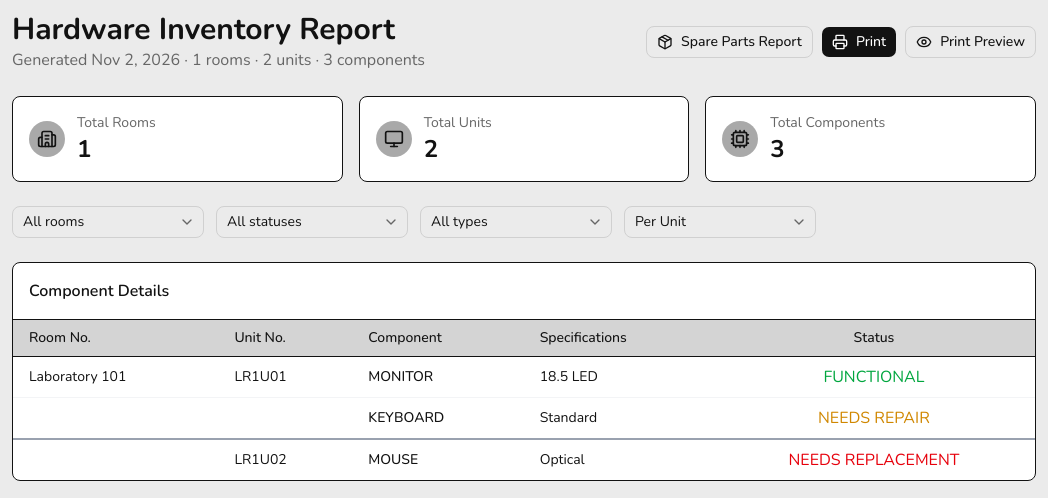
Test: HardwareReport › renders non-detailed view with deduplicated Room No. and Unit No. columns
The image size is (1048, 498).
What coordinates should you click on to do the following:
click the dropdown named "report detail level"
I would click on:
 (720, 222)
Its box is [624,206,816,238].
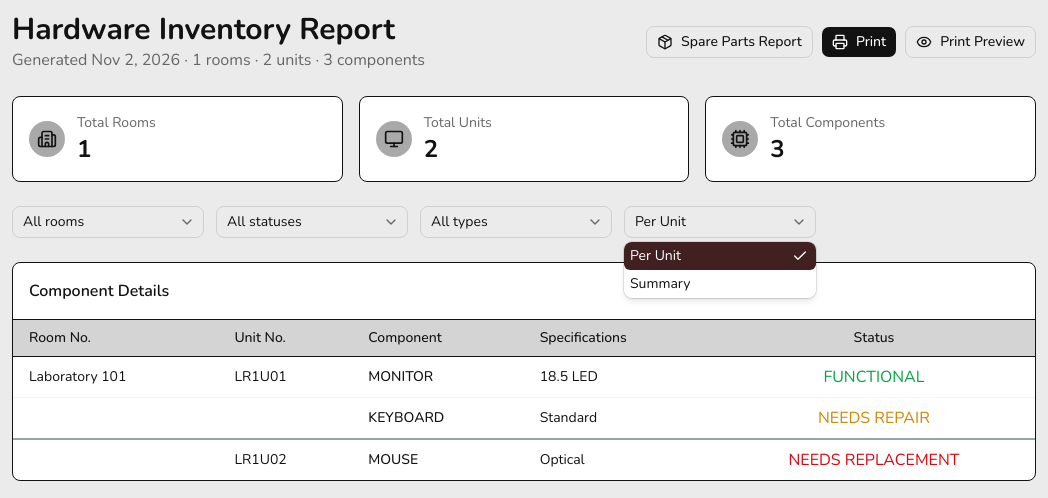
What coordinates should you click on to do the following:
click the option "Summary"
I would click on:
 (660, 284)
Its box is [630,274,690,293].
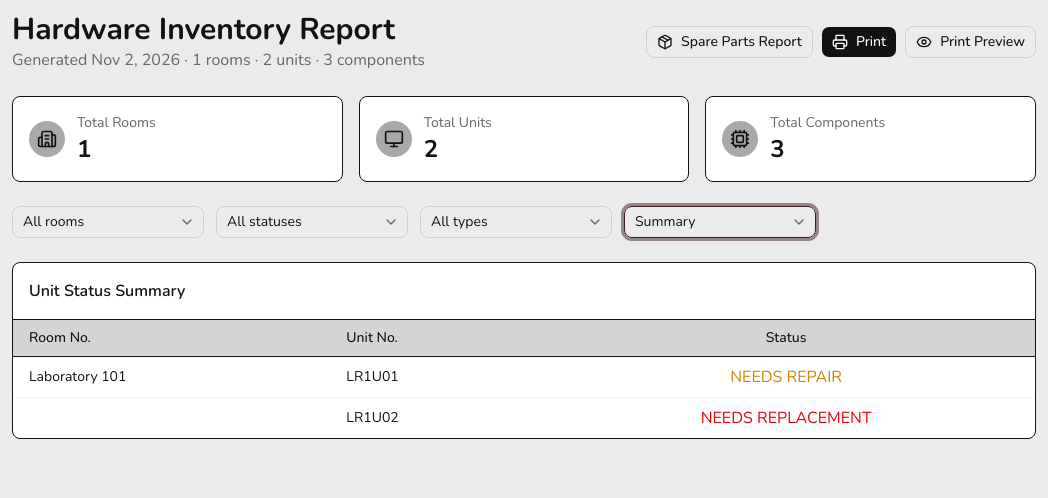
Expected: the table shows "Laboratory 101", [29,367,126,386]
Expected: the heading "Unit Status Summary" is shown, [29,280,185,302]
Expected: the heading "Component Details" is gone
